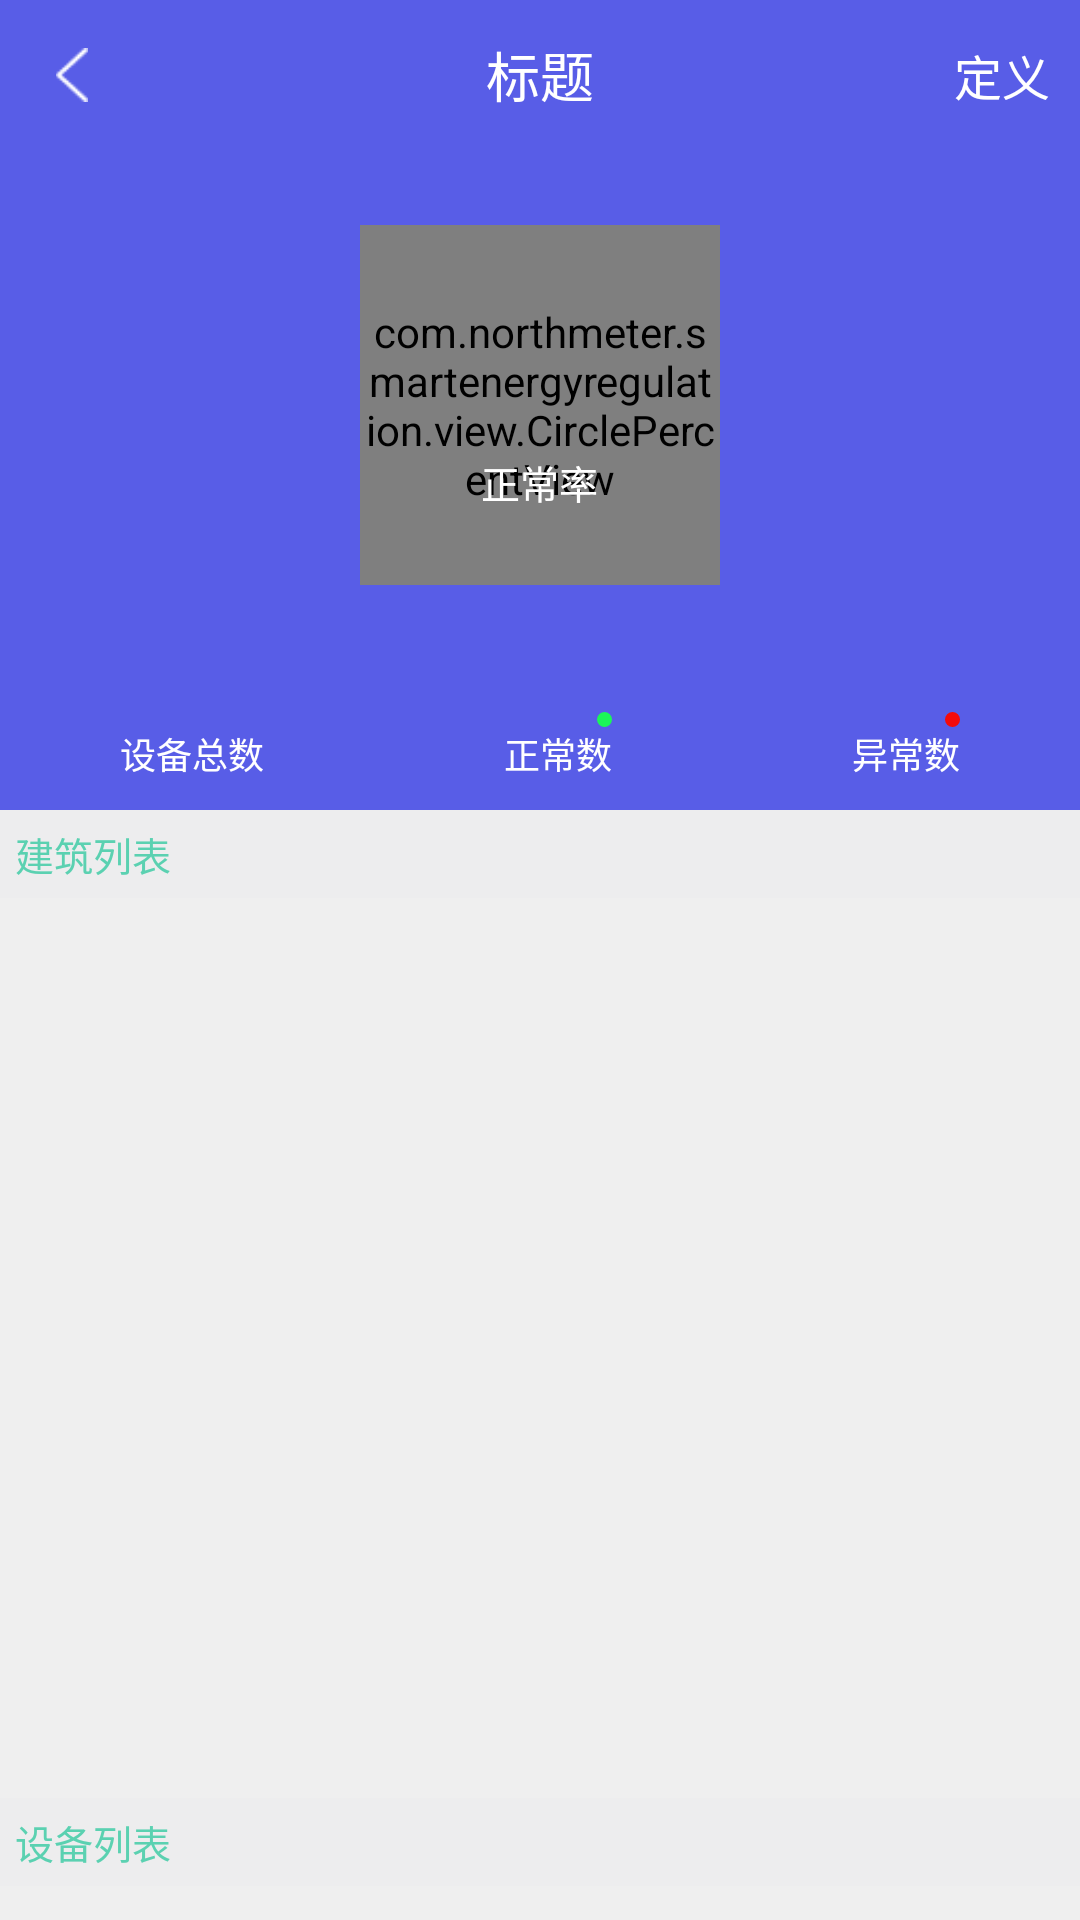

Locate icon controls on the screen. Image size 1080px x 1920px, boxes as bbox(x1, y1, x2, y2).
back: bbox(56, 48, 88, 102)
